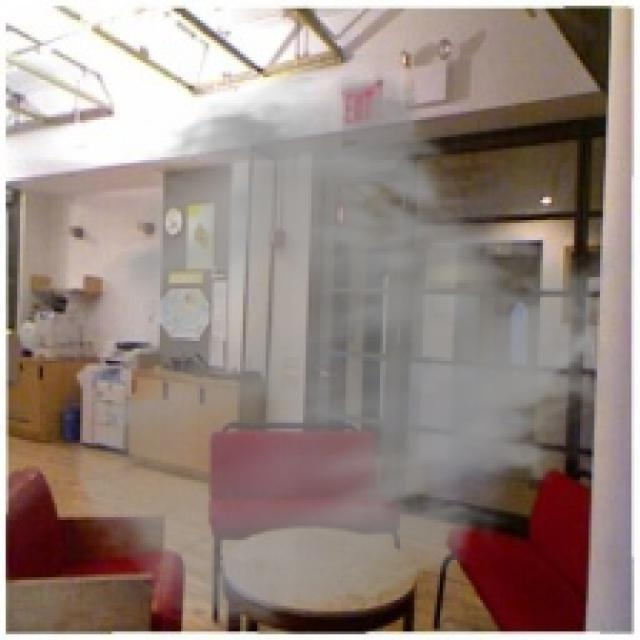Smoke: (68, 68, 638, 634)
